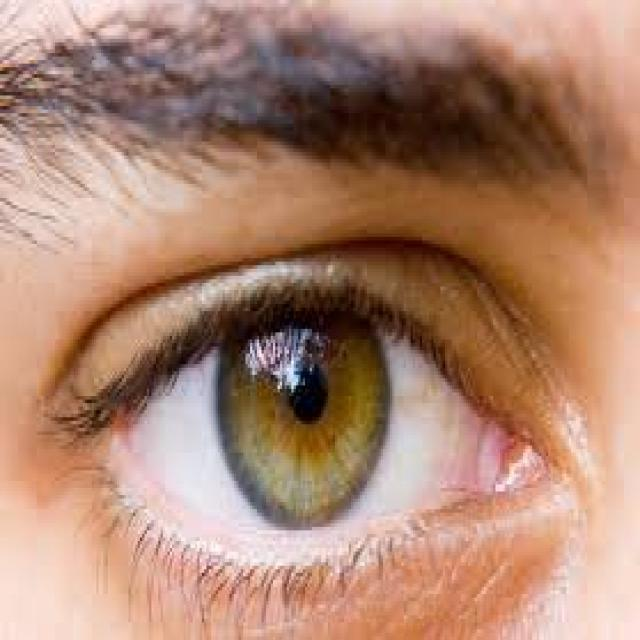Normal: (0, 203, 628, 636)
